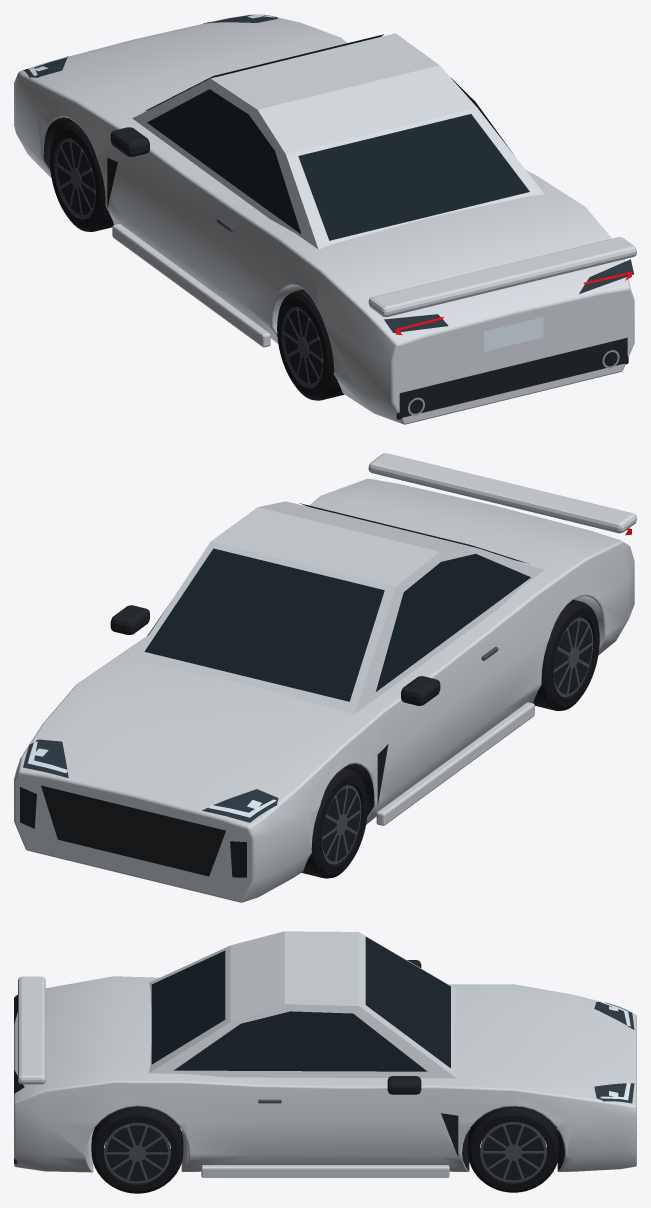
The model's file is gr86_2022_premium.glb.
3 views of the same model, one above another, from view 1: azimuth 30°, elevation 25°; view 2: azimuth 150°, elevation 25°; view 3: azimuth 270°, elevation 25° (orthographic). The views are drawn at different scales.
Parts seen in each view (by area): view 1: Body Paint surfaces, Blue Grey Glass surfaces, Satin Black Plastic surfaces, Tire Rubber surfaces.002, Tire Rubber surfaces, Smoked Lamp Housing surfaces, Satin Black Plastic surfaces.001, Satin Black Plastic surfaces.003, Head Light surfaces, Graphite Wheel Metal surfaces, Graphite Wheel Metal surfaces.002; view 2: Body Paint surfaces, Blue Grey Glass surfaces, Satin Black Plastic surfaces, Tire Rubber surfaces.002, Tire Rubber surfaces, Smoked Lamp Housing surfaces, Satin Black Plastic surfaces.001, Satin Black Plastic surfaces.003, Graphite Wheel Metal surfaces, Graphite Wheel Metal surfaces.002, Head Light surfaces; view 3: Body Paint surfaces, Blue Grey Glass surfaces, Tire Rubber surfaces.003, Tire Rubber surfaces.001, Satin Black Plastic surfaces.004, Satin Black Plastic surfaces.002, Graphite Wheel Metal surfaces.001, Graphite Wheel Metal surfaces.003, Smoked Lamp Housing surfaces, Satin Black Plastic surfaces.
Boxes of the visible parts, x1,y1,x2,y2 form: Body Paint surfaces: (14, 14, 636, 424); Blue Grey Glass surfaces: (145, 34, 529, 240); Satin Black Plastic surfaces: (107, 127, 628, 419); Tire Rubber surfaces.002: (277, 289, 344, 400); Tire Rubber surfaces: (50, 121, 113, 231); Smoked Lamp Housing surfaces: (23, 14, 633, 332); Satin Black Plastic surfaces.001: (57, 141, 95, 215); Satin Black Plastic surfaces.003: (284, 310, 322, 383); Head Light surfaces: (28, 14, 543, 351); Graphite Wheel Metal surfaces: (56, 138, 95, 217); Graphite Wheel Metal surfaces.002: (283, 307, 322, 386); Body Paint surfaces: (14, 453, 636, 902); Blue Grey Glass surfaces: (144, 503, 530, 701); Satin Black Plastic surfaces: (20, 605, 440, 877); Tire Rubber surfaces.002: (533, 599, 599, 710); Tire Rubber surfaces: (301, 768, 367, 878); Smoked Lamp Housing surfaces: (23, 739, 278, 822); Satin Black Plastic surfaces.001: (322, 788, 360, 861); Satin Black Plastic surfaces.003: (554, 620, 592, 694); Graphite Wheel Metal surfaces: (322, 785, 361, 864); Graphite Wheel Metal surfaces.002: (553, 617, 593, 696); Head Light surfaces: (28, 741, 276, 817); Body Paint surfaces: (14, 931, 636, 1177); Blue Grey Glass surfaces: (151, 937, 450, 1071); Tire Rubber surfaces.003: (91, 1106, 183, 1193); Tire Rubber surfaces.001: (467, 1106, 559, 1192); Satin Black Plastic surfaces.004: (106, 1125, 167, 1181); Satin Black Plastic surfaces.002: (483, 1124, 544, 1180); Graphite Wheel Metal surfaces.001: (480, 1122, 546, 1182); Graphite Wheel Metal surfaces.003: (104, 1123, 170, 1183); Smoked Lamp Housing surfaces: (14, 994, 634, 1103); Satin Black Plastic surfaces: (14, 960, 458, 1164).
Size of the model in its own units: 2.03 by 1.31 by 4.27.
